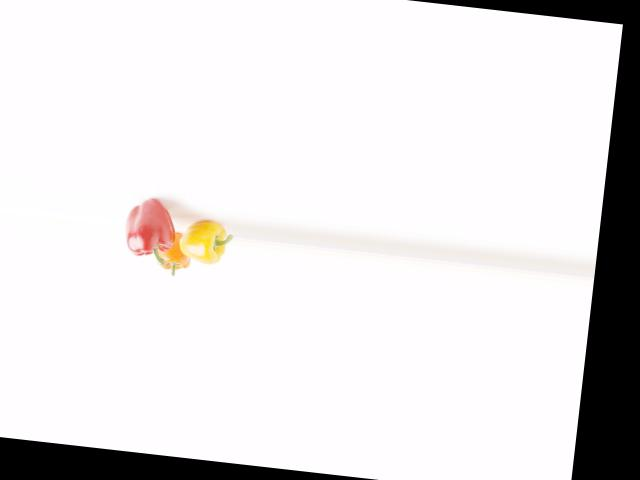bell_pepper: (119, 189, 182, 272)
